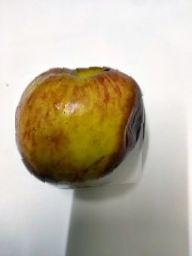Apple Semirotten: (15, 65, 146, 192)
